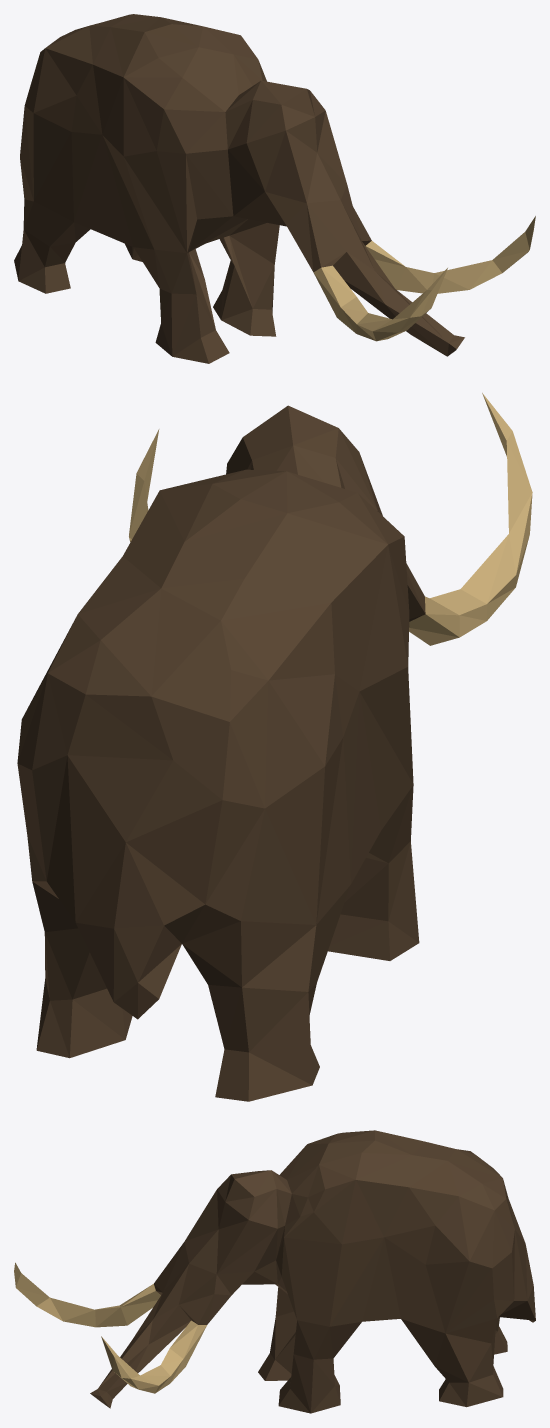
Rendered from mammoth.fbx.
3 renders of one model, top to bottom at view 1: azimuth 30°, elevation 25°; view 2: azimuth 150°, elevation 25°; view 3: azimuth 270°, elevation 25°, orthographic. The views are drawn at different scales.
Visible parts, largest first — view 1: Mammoth; view 2: Mammoth; view 3: Mammoth.
Boxes of the visible parts, x1,y1,x2,y2 form: Mammoth: (14,14,535,363); Mammoth: (17,393,532,1101); Mammoth: (14,1130,535,1413).
Size of the model in its own units: 131 by 115 by 222.
